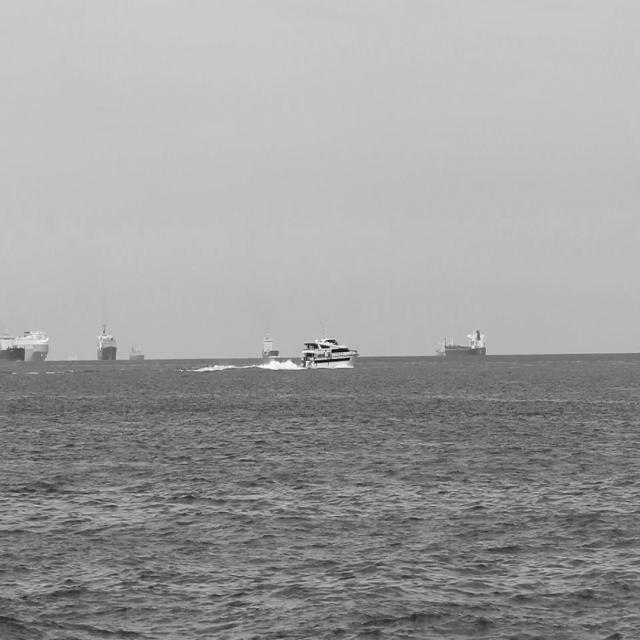ship: (300, 335, 360, 369), (428, 325, 486, 355), (5, 329, 49, 356), (96, 317, 118, 365), (1, 336, 26, 364), (259, 329, 279, 357), (129, 338, 146, 363)
